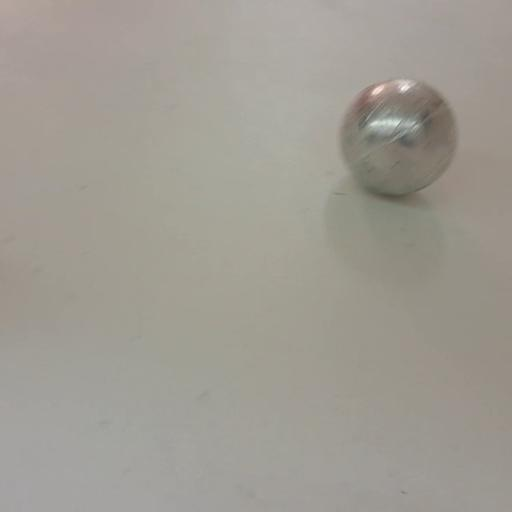alive: (335, 77, 460, 197)
